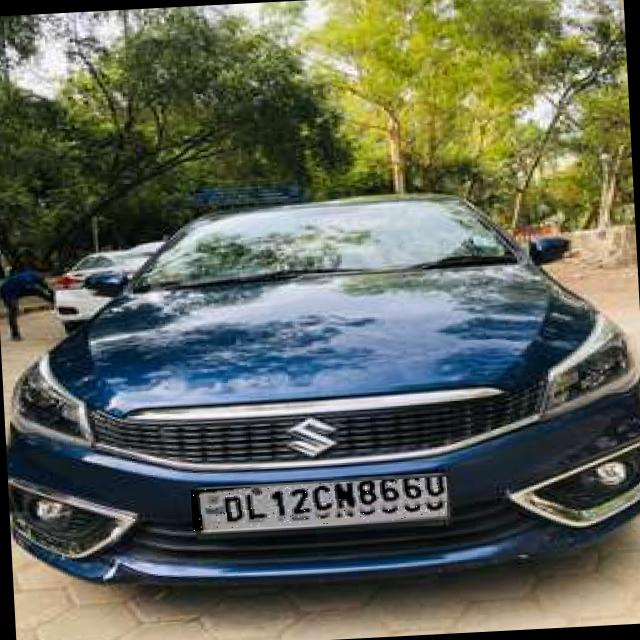Plate: (192, 478, 450, 532)
